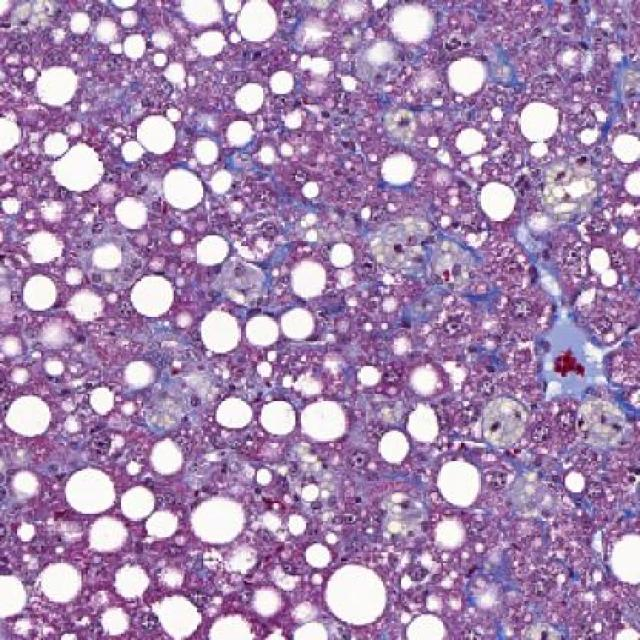fibrosis: (480, 312, 626, 420)
